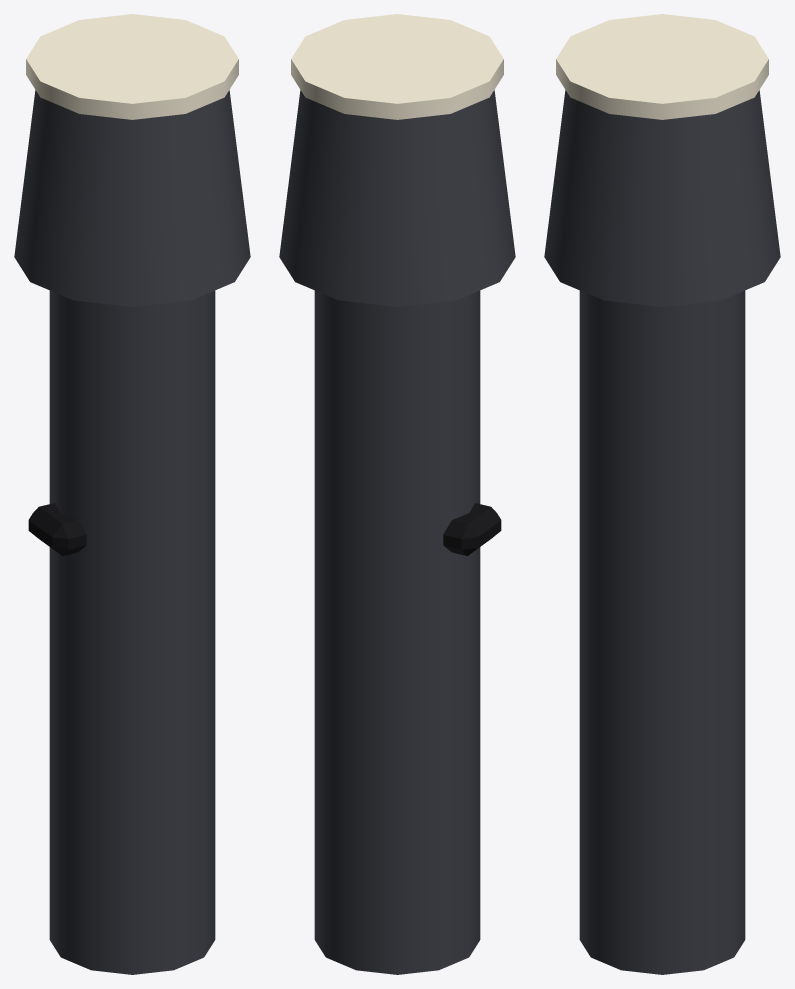
File: lanterna.obj
The picture shows the model from 3 angles, left to right: view 1: azimuth 30°, elevation 25°; view 2: azimuth 150°, elevation 25°; view 3: azimuth 270°, elevation 25°; orthographic projection.
Visible parts, largest first — view 1: lanterna; view 2: lanterna; view 3: lanterna.
Part boxes in pixels (x1,y1,x2,y2): lanterna: (14,14,250,974); lanterna: (279,14,515,974); lanterna: (544,14,780,974).
Bounding box in the file's own units: 0.04 × 0.1645 × 0.04.
